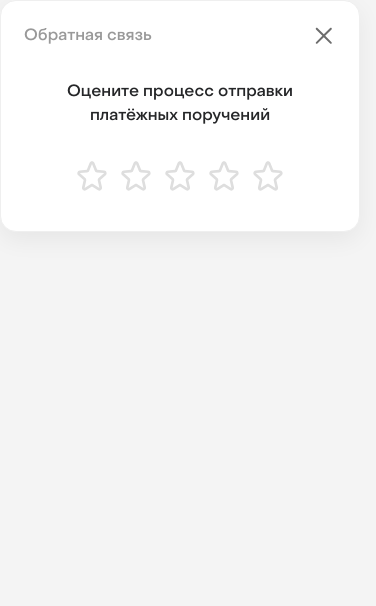
Nps: чипы › пустые подписи отбрасываются до среза, а не занимают место
The image size is (376, 606).
Click the radio button named "3 из 5, Нормально".
click(180, 176)  # box [164, 160, 196, 192]
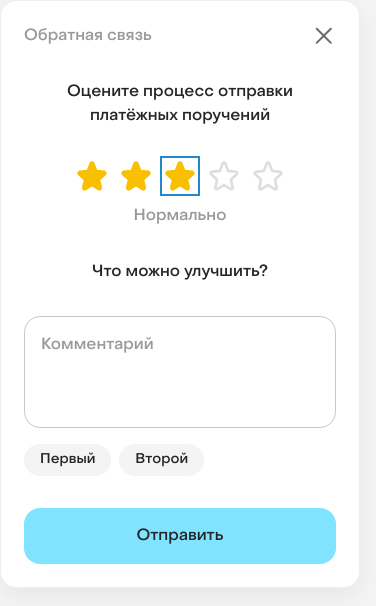
Check: the button "Первый" is shown, box [24, 444, 111, 476]
Check: the button "Второй" is shown, box [119, 444, 204, 476]
